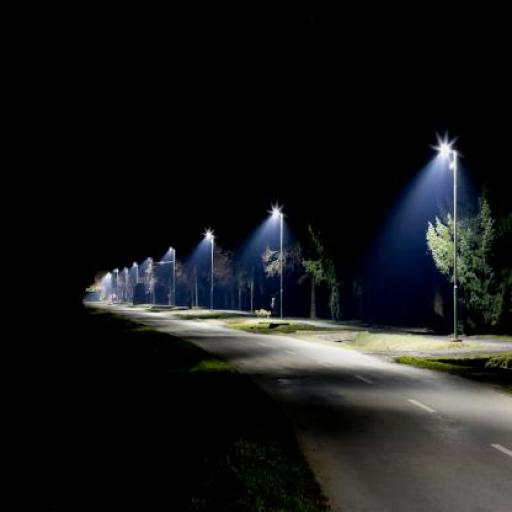street light: (438, 143, 460, 341), (274, 208, 284, 320), (203, 229, 214, 309), (167, 246, 175, 308), (146, 255, 154, 302), (132, 262, 138, 303)
